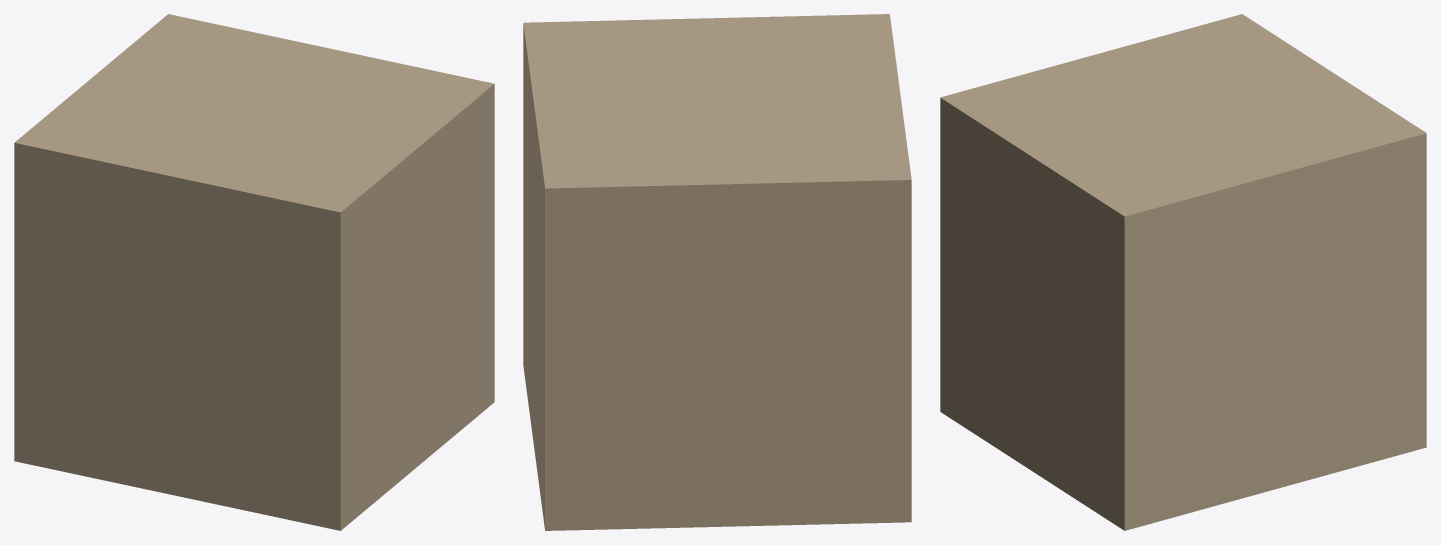
The model's file is bld_105794196.dae.
3 renders of one model, left to right at view 1: azimuth 30°, elevation 25°; view 2: azimuth 150°, elevation 25°; view 3: azimuth 270°, elevation 25°, orthographic. The views are drawn at different scales.
Visible parts, largest first — view 1: bld_105794196; view 2: bld_105794196; view 3: bld_105794196.
Part boxes in pixels (x1,y1,x2,y2): bld_105794196: [14, 14, 494, 530]; bld_105794196: [523, 14, 911, 530]; bld_105794196: [940, 14, 1426, 530].
Bounding box in the file's own units: 11.06 × 11.23 × 8.
